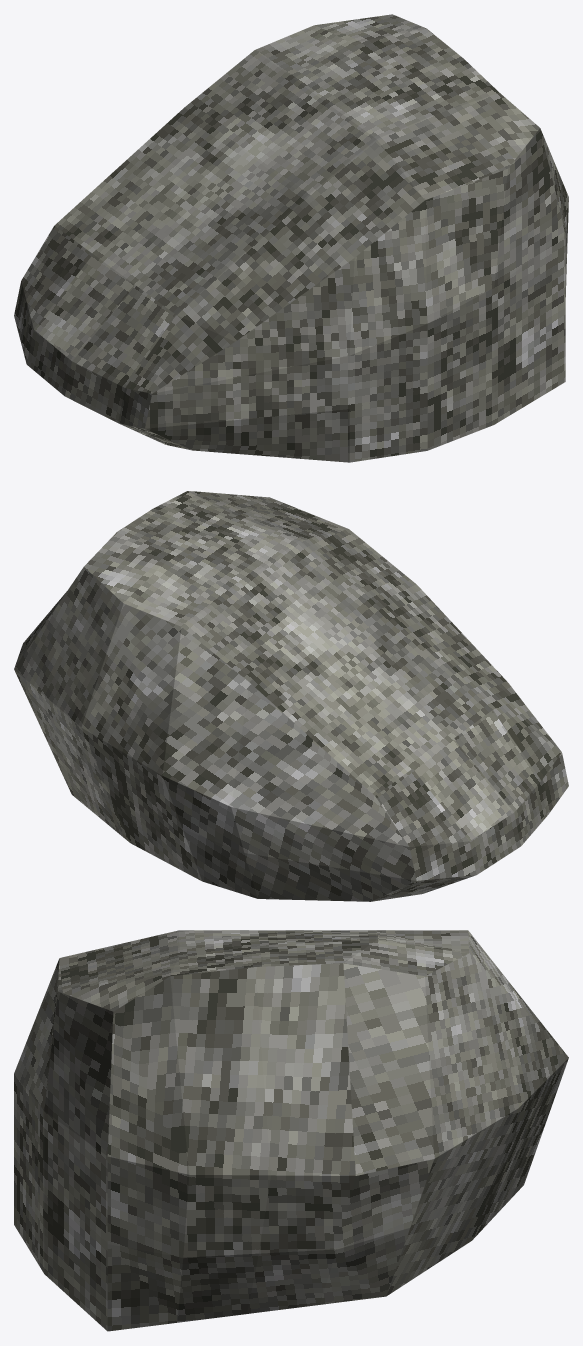
Rendered from Rock01.glb.
3 renders of one model, top to bottom at view 1: azimuth 30°, elevation 25°; view 2: azimuth 150°, elevation 25°; view 3: azimuth 270°, elevation 25°, orthographic. The views are drawn at different scales.
Parts seen in each view (by area): view 1: Cube-col; view 2: Cube-col; view 3: Cube-col.
Part boxes in pixels (bbox=[...]): Cube-col: bbox=[14, 14, 568, 462]; Cube-col: bbox=[14, 491, 568, 901]; Cube-col: bbox=[14, 930, 568, 1331].
Bounding box in the file's own units: 6.34 × 3.64 × 5.31.
Materials: 1 (1 with a texture image).
